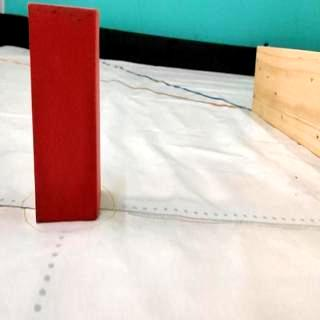redbox: (26, 2, 102, 224)
